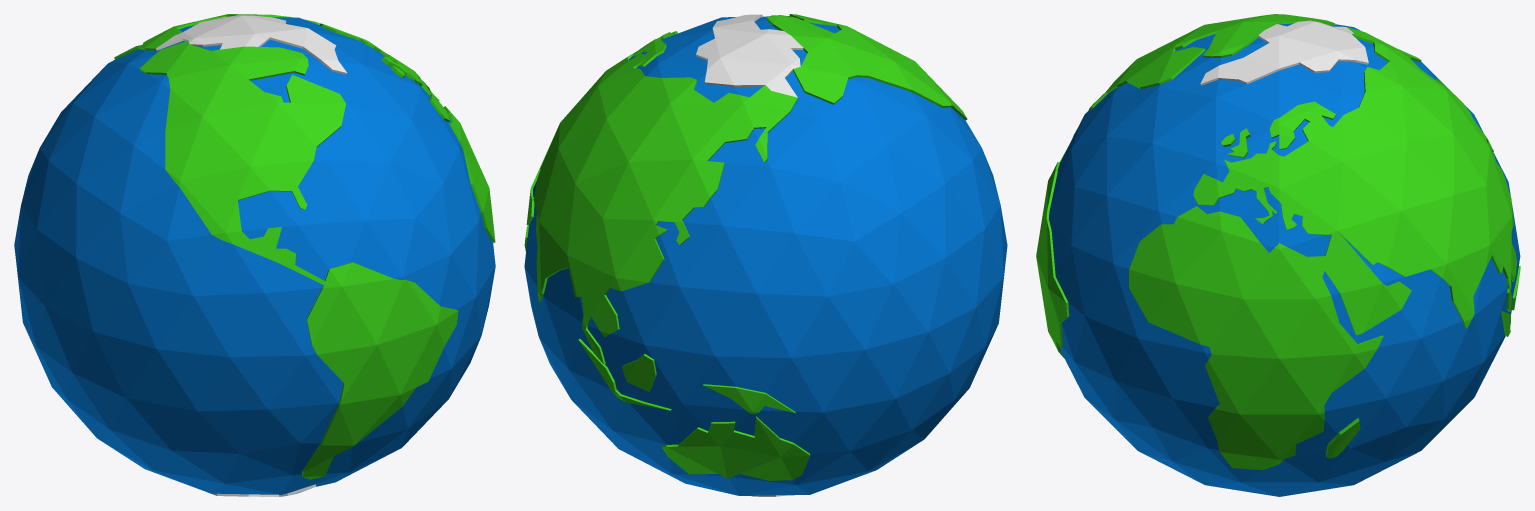
Rendered from HealtyEarth.fbx.
3 renders of one model, left to right at view 1: azimuth 30°, elevation 25°; view 2: azimuth 150°, elevation 25°; view 3: azimuth 270°, elevation 25°, orthographic.
Parts seen in each view (by area): view 1: Icosphere.001; view 2: Icosphere.001; view 3: Icosphere.001.
Part boxes in pixels (box(x1,y1,x2,y2)): Icosphere.001: box(14, 14, 495, 496); Icosphere.001: box(524, 14, 1007, 496); Icosphere.001: box(1036, 14, 1520, 496).
Bounding box in the file's own units: 201 × 202 × 201.
